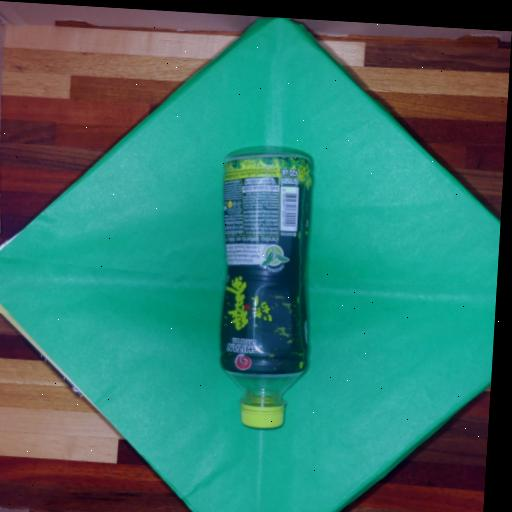bottle: (221, 153, 311, 427)
